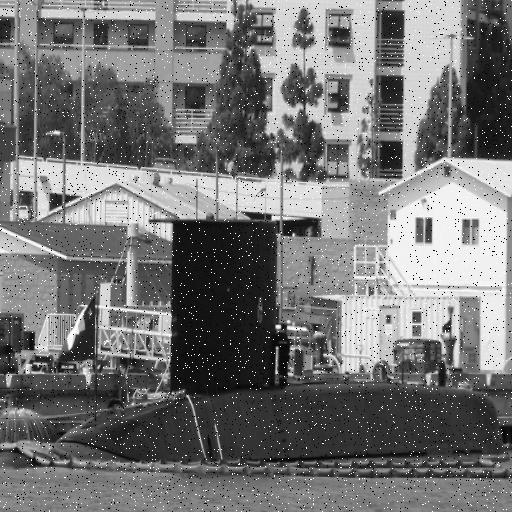submarine: (1, 220, 508, 466)
